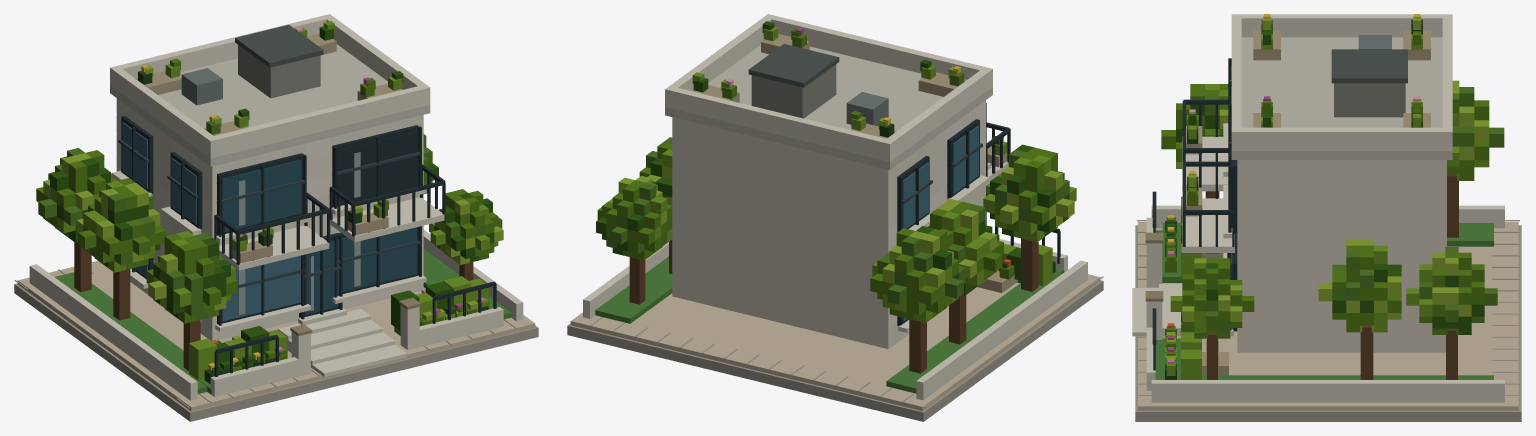
Rendered from SM_Mapa_021.fbx.
3 views of the same model, side by side, from view 1: azimuth 30°, elevation 25°; view 2: azimuth 150°, elevation 25°; view 3: azimuth 270°, elevation 25° (orthographic). The views are drawn at different scales.
Visible parts, largest first — view 1: SM_Mapa_021; view 2: SM_Mapa_021; view 3: SM_Mapa_021.
Part boxes in pixels (x1=…): SM_Mapa_021: x1=14, y1=14, x2=538, y2=421; SM_Mapa_021: x1=567, y1=14, x2=1103, y2=421; SM_Mapa_021: x1=1132, y1=14, x2=1521, y2=421.
Size of the model in its own units: 8 by 6.96 by 5.46.
